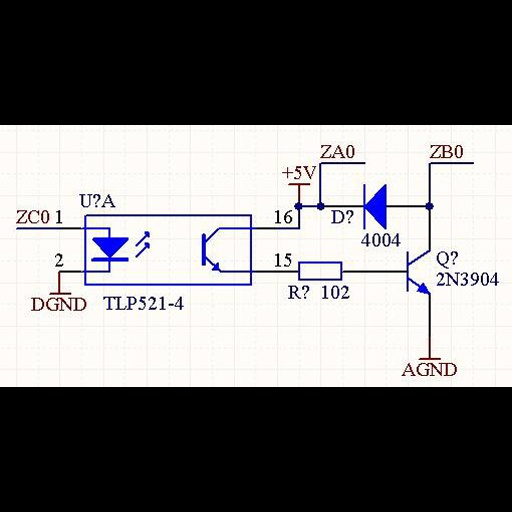firstdiode: (355, 178, 392, 231)
firstled: (88, 231, 161, 264)
firstresistance: (295, 259, 350, 282)
npn: (399, 247, 435, 301)
